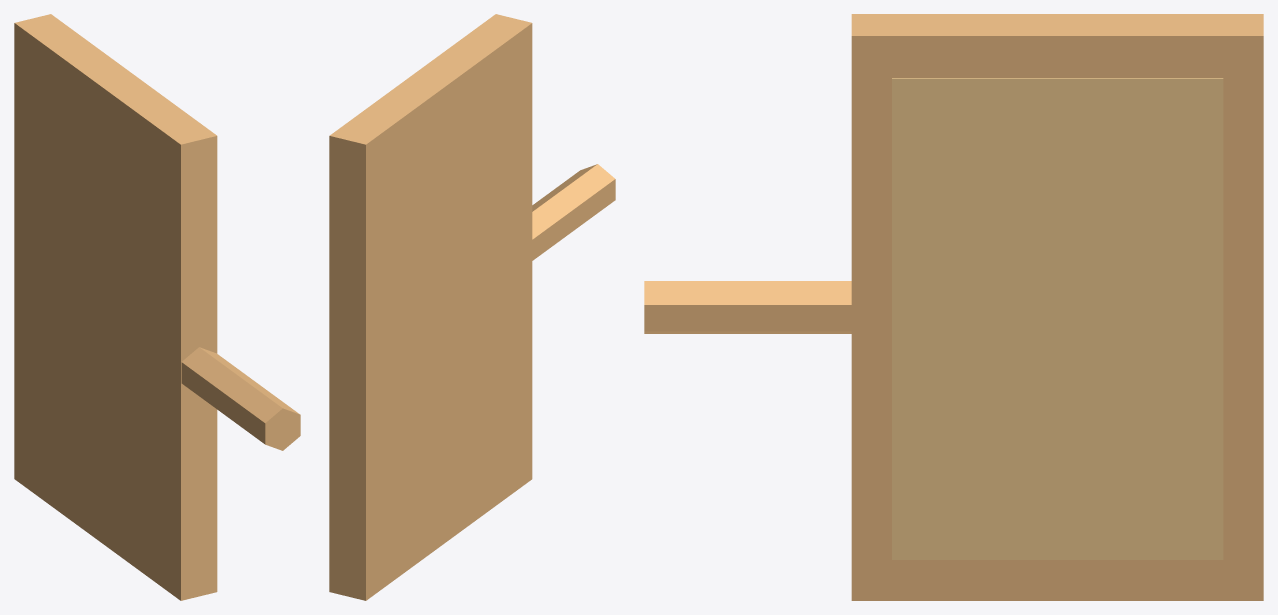
File: beesign.fbx
The picture shows the model from 3 angles, left to right: view 1: azimuth 30°, elevation 25°; view 2: azimuth 150°, elevation 25°; view 3: azimuth 270°, elevation 25°; orthographic projection. The views are drawn at different scales.
Parts seen in each view (by area): view 1: Sign; view 2: Sign; view 3: Sign.
Boxes of the visible parts, x1,y1,x2,y2 form: Sign: (14,14,300,600); Sign: (329,14,615,600); Sign: (644,14,1263,600).
Bounding box in the file's own units: 17.44 × 201 × 200.
